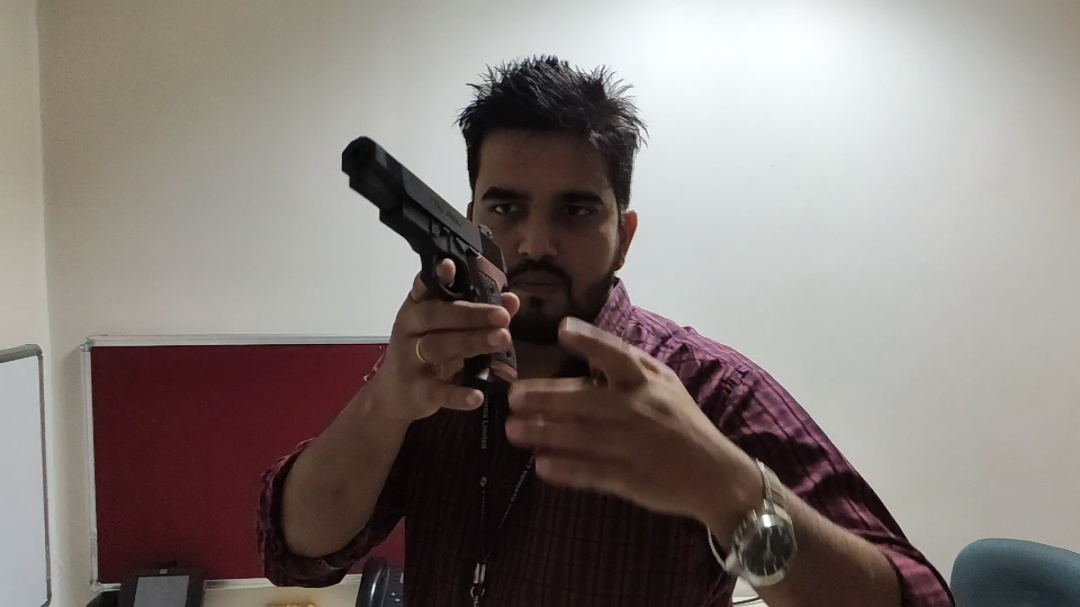gun: (327, 133, 526, 394)
